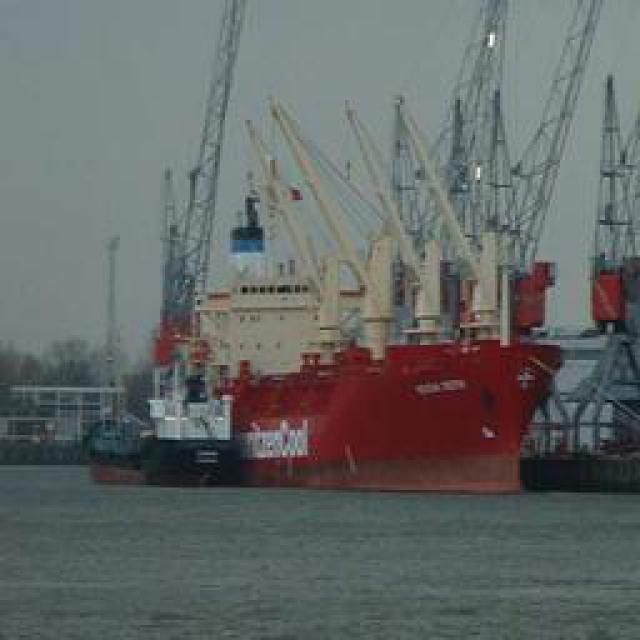Ship: (90, 115, 557, 502)
